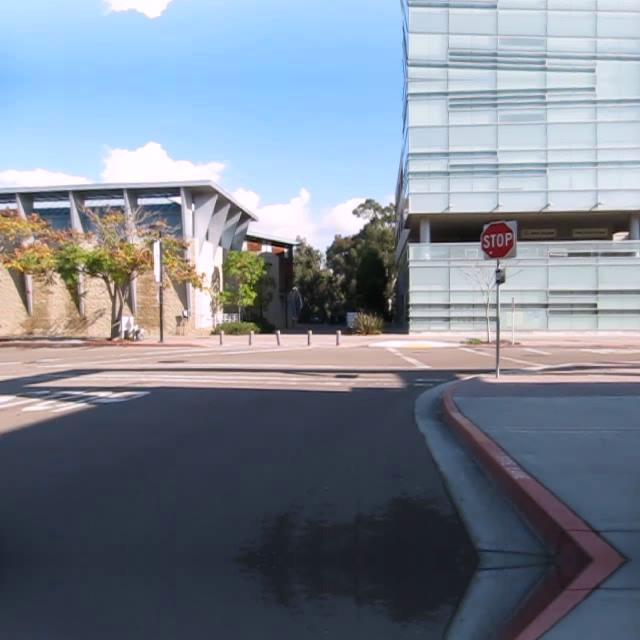stop: (480, 221, 514, 259)
